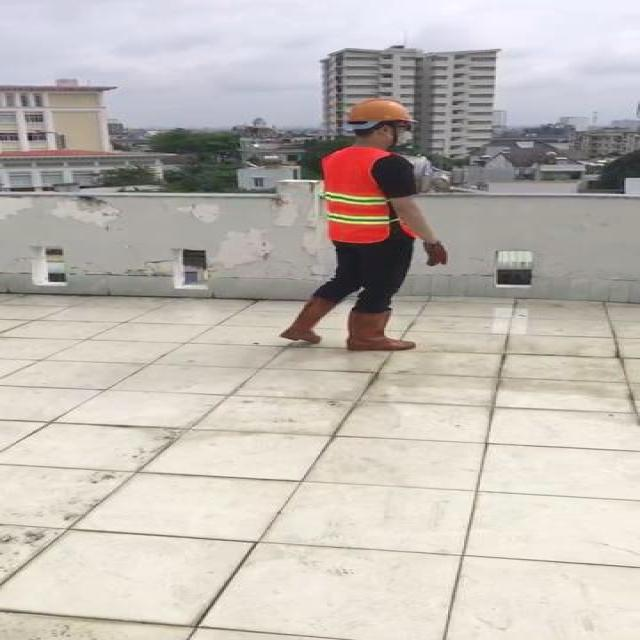boots: (279, 298, 341, 344), (348, 311, 414, 353)
hand_glove: (421, 241, 450, 269)
head_helmet: (348, 96, 422, 125)
person: (272, 92, 457, 354)
vest: (326, 149, 396, 244)
